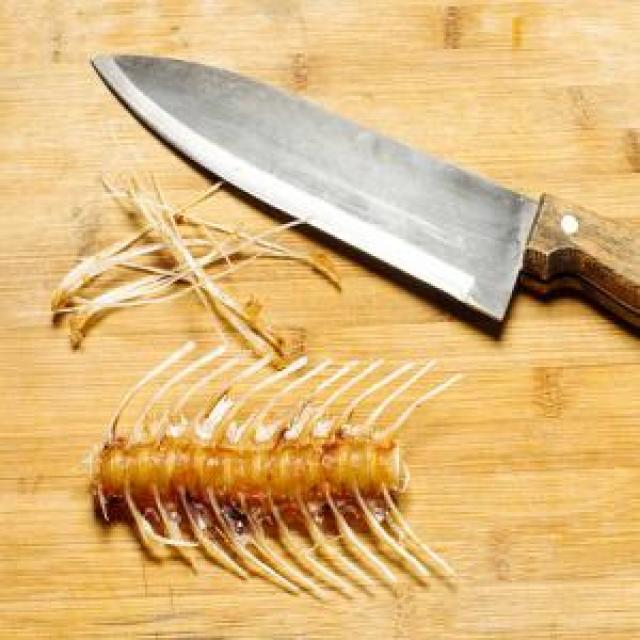knife: (83, 53, 638, 340)
